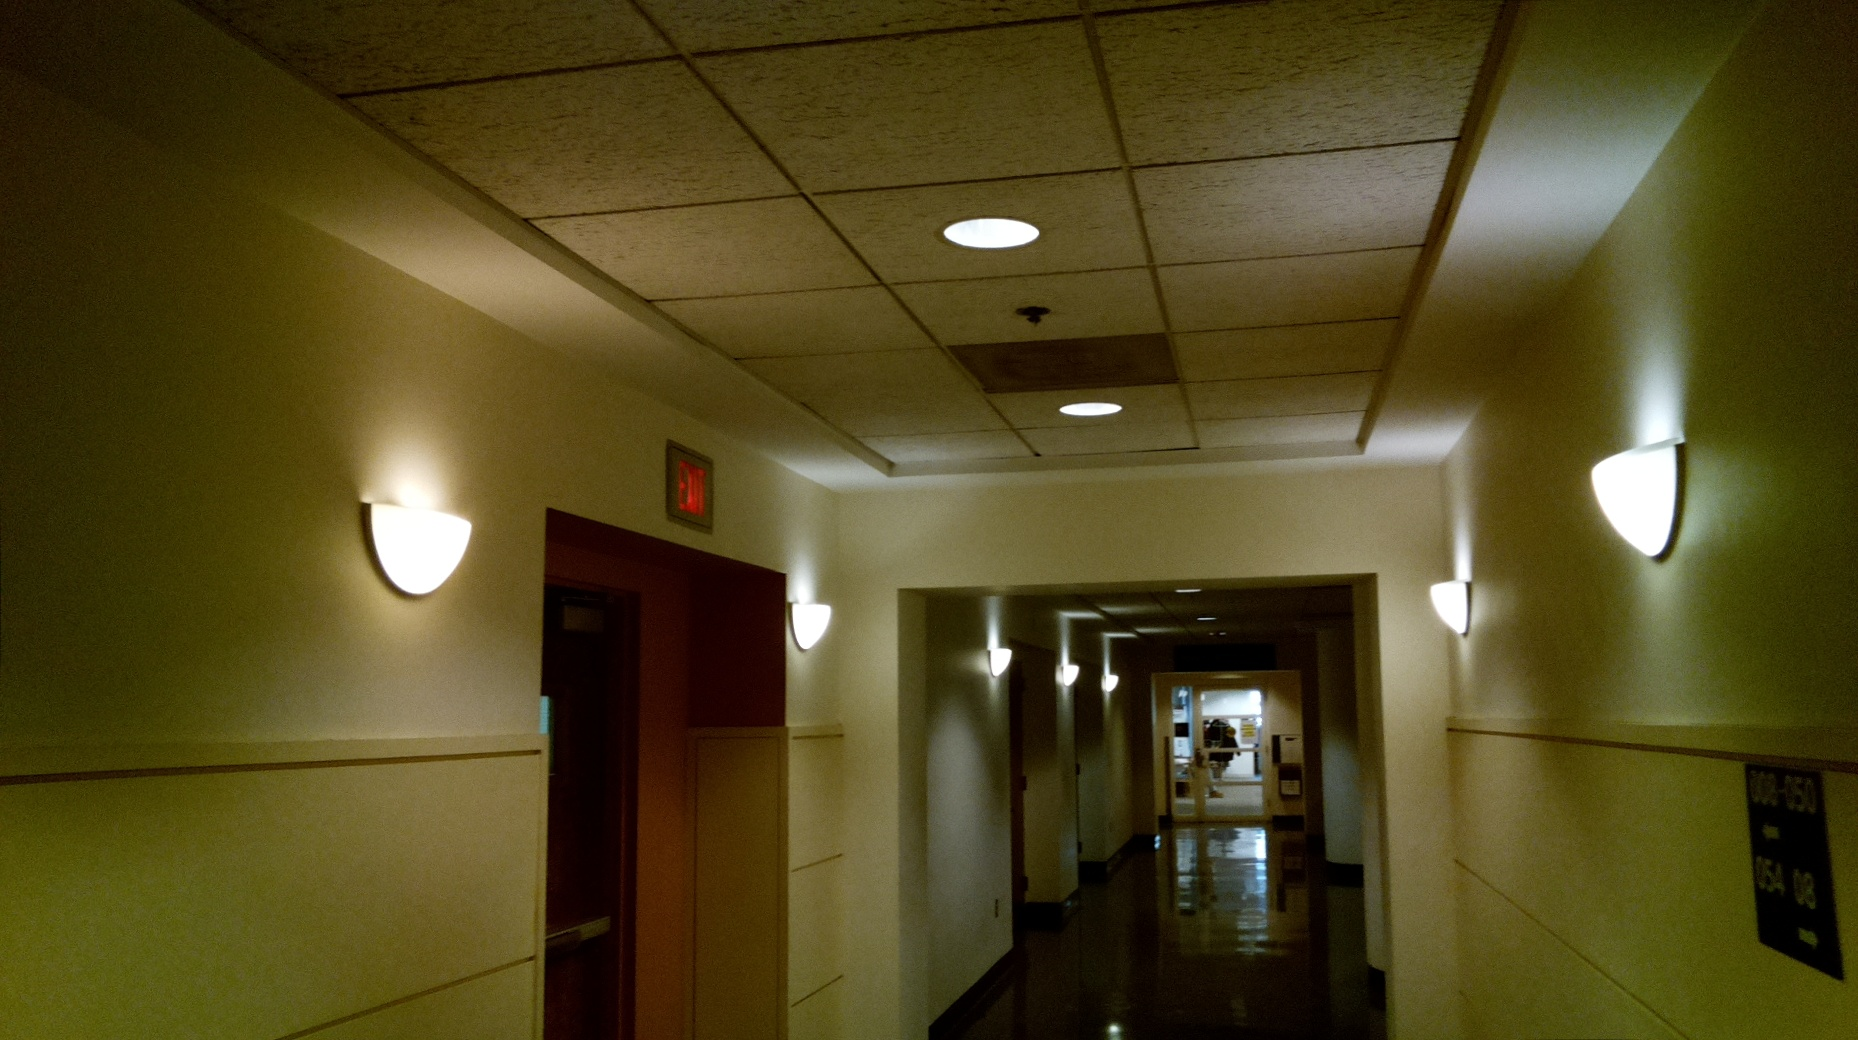exit sign: (664, 434, 718, 540)
